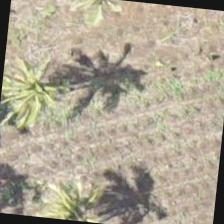Kelapa_Sawit: (0, 37, 89, 136), (27, 158, 124, 223)
